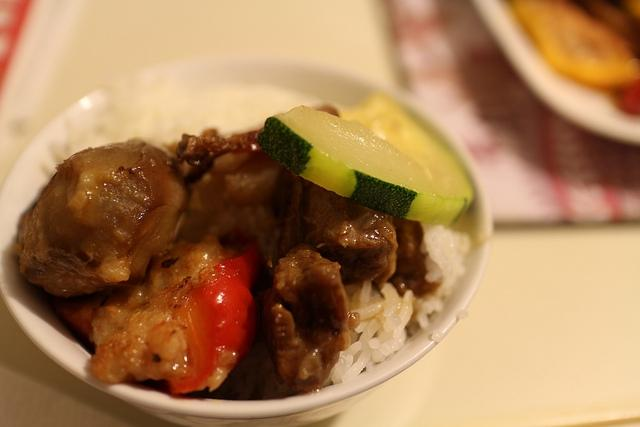cucumber: (257, 106, 465, 224)
